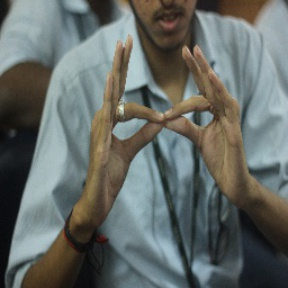B: (106, 90, 223, 163)
